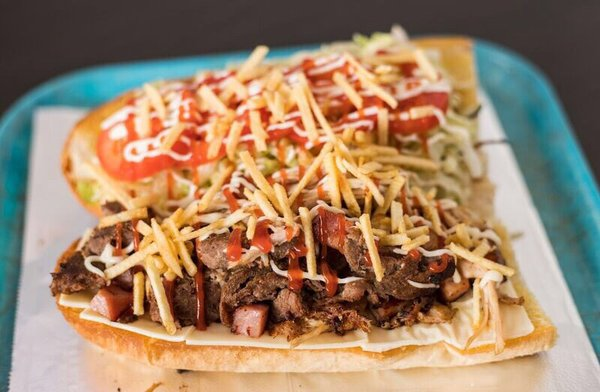curry: (0, 4, 579, 383)
